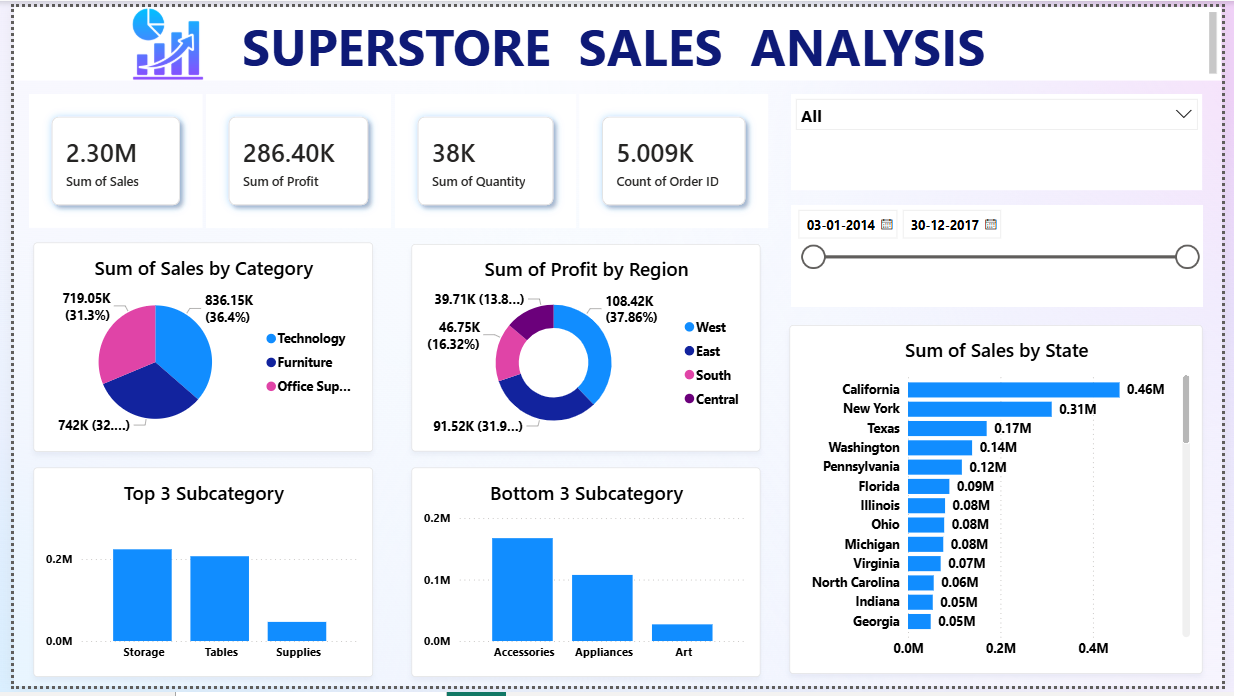

Layout of this report page (visuals, bound fields, positions):
{"tool":"powerbi","page":{"name":"Super store Sales Analysis","canvas":[1280,720],"ordinal":0},"visuals":[{"type":"cardVisual","fields":{"Data":["Sum(Orders.Sales)"]},"box":[16,92,184,142],"z":0},{"type":"cardVisual","fields":{"Data":["Sum(Orders.Profit)"]},"box":[204,92,196,142],"z":1000},{"type":"cardVisual","fields":{"Data":["Sum(Orders.Quantity)"]},"box":[404,92,192,142],"z":2000},{"type":"cardVisual","fields":{"Data":["Count(Orders.Order ID)"]},"box":[600,92,200,142],"z":3000},{"type":"pieChart","fields":{"Category":["Orders.Category"],"Y":["Sum(Orders.Sales)"]},"box":[20,250,360,222],"z":4000},{"type":"donutChart","fields":{"Y":["Sum(Orders.Profit)"],"Category":["Orders.Region"]},"box":[422,252,370,220],"z":5000},{"type":"columnChart","title":"Top 3 Subcategory","fields":{"Category":["Orders.Sub-Category"],"Y":["Sum(Orders.Sales)"]},"box":[20,488,360,222],"z":6000},{"type":"columnChart","title":"Bottom 3 Subcategory","fields":{"Category":["Orders.Sub-Category"],"Y":["Sum(Orders.Sales)"]},"box":[422,488,370,222],"z":7000},{"type":"slicer","fields":{"Values":["Orders.Customer ID"]},"box":[824,92,436,102],"z":8000},{"type":"slicer","fields":{"Values":["Orders.Order Date"]},"box":[824,210,436,108],"z":9000},{"type":"clusteredBarChart","fields":{"Category":["Orders.State"],"Y":["Sum(Orders.Sales)"]},"box":[822,338,438,370],"z":10000},{"type":"textbox","box":[0,0,1280,78],"z":11000},{"type":"image","box":[75,0,176.7,78.3],"z":11001}]}

Visuals, with their boxes in screenshot pixels (x1, y1, x2, y2), scaled from the page's 1280x720 canvas onto the 1234x696 screenshot:
cardVisual - Sum(Orders.Sales): bbox=[15, 89, 193, 226]
cardVisual - Sum(Orders.Profit): bbox=[197, 89, 386, 226]
cardVisual - Sum(Orders.Quantity): bbox=[389, 89, 575, 226]
cardVisual - Count(Orders.Order ID): bbox=[578, 89, 771, 226]
pieChart - Orders.Category x Sum(Orders.Sales): bbox=[19, 242, 366, 456]
donutChart - Sum(Orders.Profit) x Orders.Region: bbox=[407, 244, 764, 456]
"Top 3 Subcategory" columnChart: bbox=[19, 472, 366, 686]
"Bottom 3 Subcategory" columnChart: bbox=[407, 472, 764, 686]
slicer - Orders.Customer ID: bbox=[794, 89, 1215, 188]
slicer - Orders.Order Date: bbox=[794, 203, 1215, 307]
clusteredBarChart - Orders.State x Sum(Orders.Sales): bbox=[792, 327, 1215, 684]
textbox: bbox=[0, 0, 1233, 75]
image: bbox=[72, 0, 243, 76]
